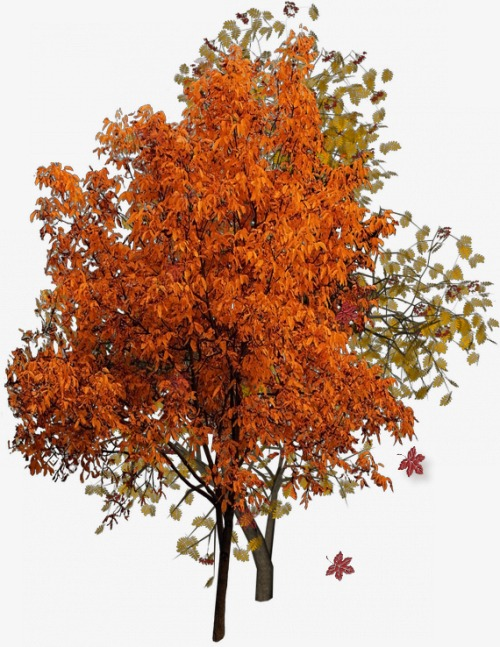plants: (1, 1, 492, 588)
